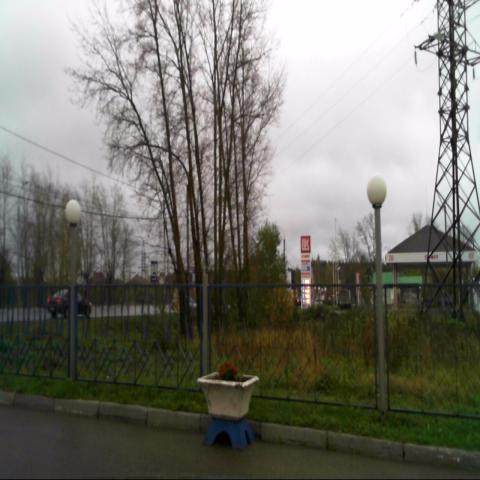7_5: (150, 260, 160, 286)
